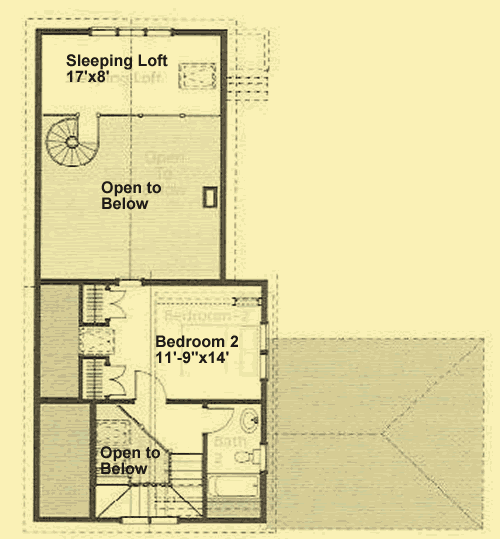door: (100, 362, 129, 401), (135, 369, 169, 402), (203, 405, 234, 436), (105, 286, 130, 322)
large_sink: (232, 447, 263, 468)
stairs: (94, 451, 208, 520), (45, 112, 101, 169)
tub: (207, 471, 260, 501)
window: (89, 25, 174, 39), (253, 319, 270, 381)
